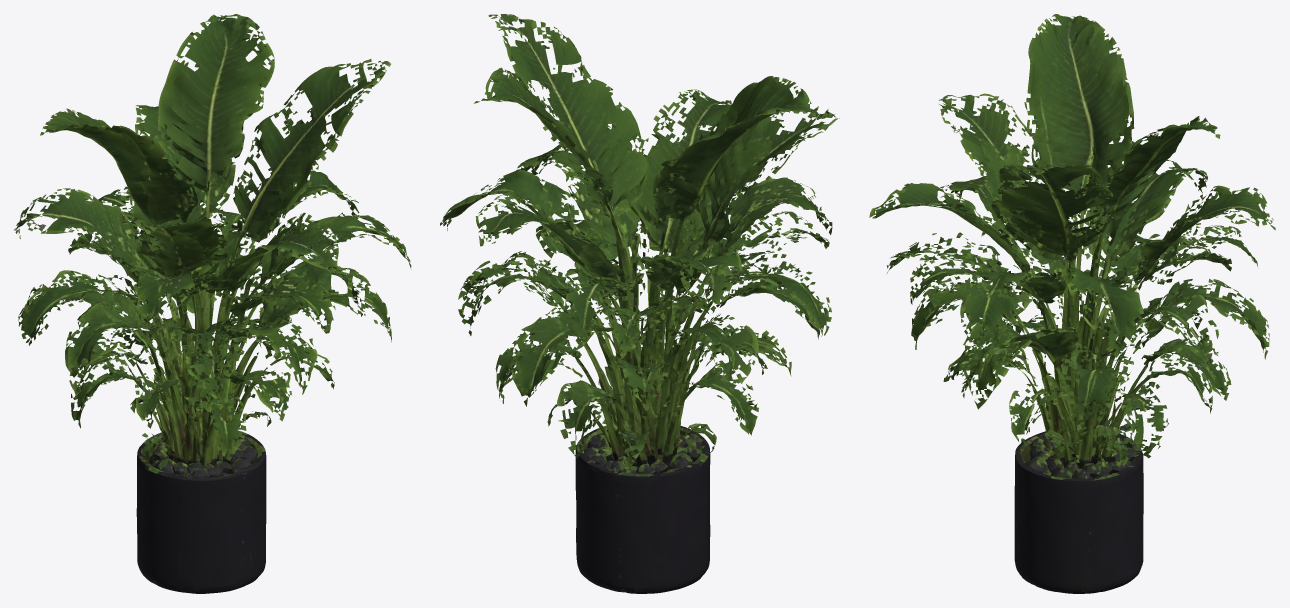
The model's file is neoevo-large-plant.glb.
The picture shows the model from 3 angles, left to right: view 1: azimuth 30°, elevation 25°; view 2: azimuth 150°, elevation 25°; view 3: azimuth 270°, elevation 25°; orthographic projection. The views are drawn at different scales.
Visible parts, largest first — view 1: output; view 2: output; view 3: output.
Boxes of the visible parts, x1,y1,x2,y2 form: output: [14, 14, 411, 593]; output: [440, 14, 839, 593]; output: [869, 14, 1275, 593].
Bounding box in the file's own units: 1.41 × 1.9 × 1.43.
Materials: 1 (1 with a texture image).
